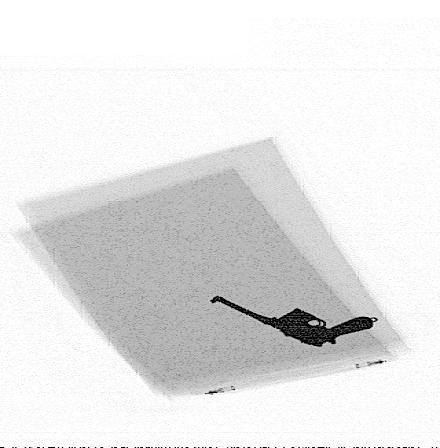Gun: (208, 295, 373, 348)
